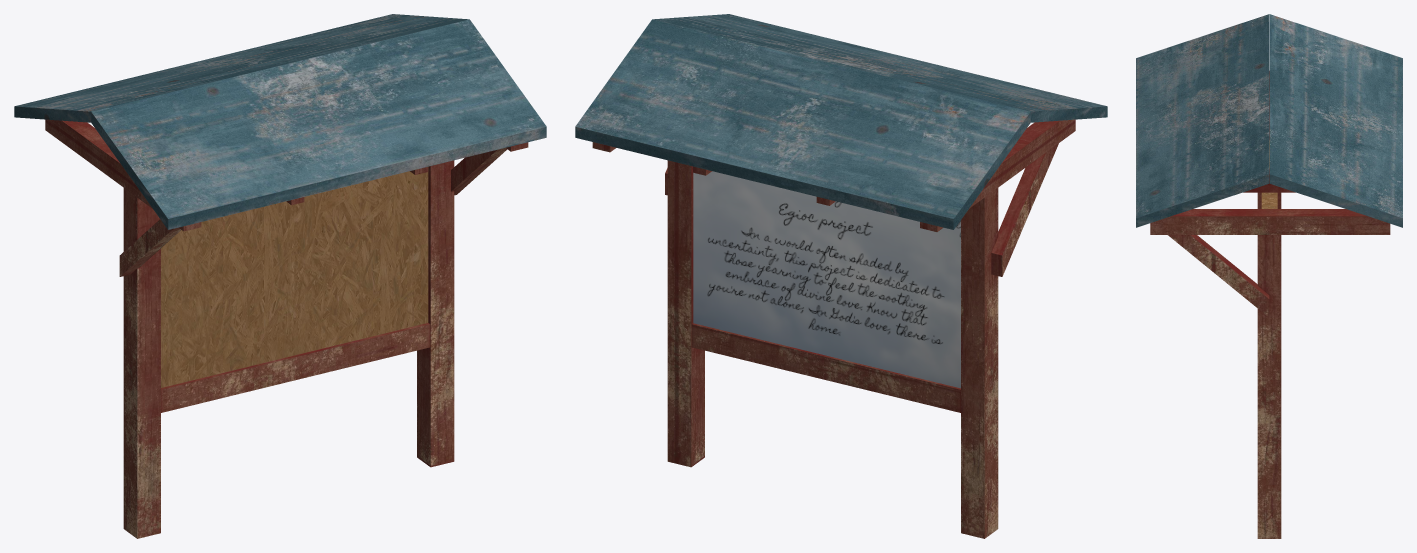
File: message.dae
3 renders of one model, left to right at view 1: azimuth 30°, elevation 25°; view 2: azimuth 150°, elevation 25°; view 3: azimuth 270°, elevation 25°, orthographic. The views are drawn at different scales.
Parts seen in each view (by area): view 1: pCube14; view 2: pCube14, clouds; view 3: pCube14.
Boxes of the visible parts, left/top/right/bottom form: pCube14: left=14, top=14, right=546, bottom=538; pCube14: left=575, top=14, right=1107, bottom=538; clouds: left=693, top=171, right=960, bottom=388; pCube14: left=1136, top=14, right=1402, bottom=538.
Size of the model in its own units: 18.37 by 12.94 by 20.02.
Materials: 7 (7 with a texture image).
